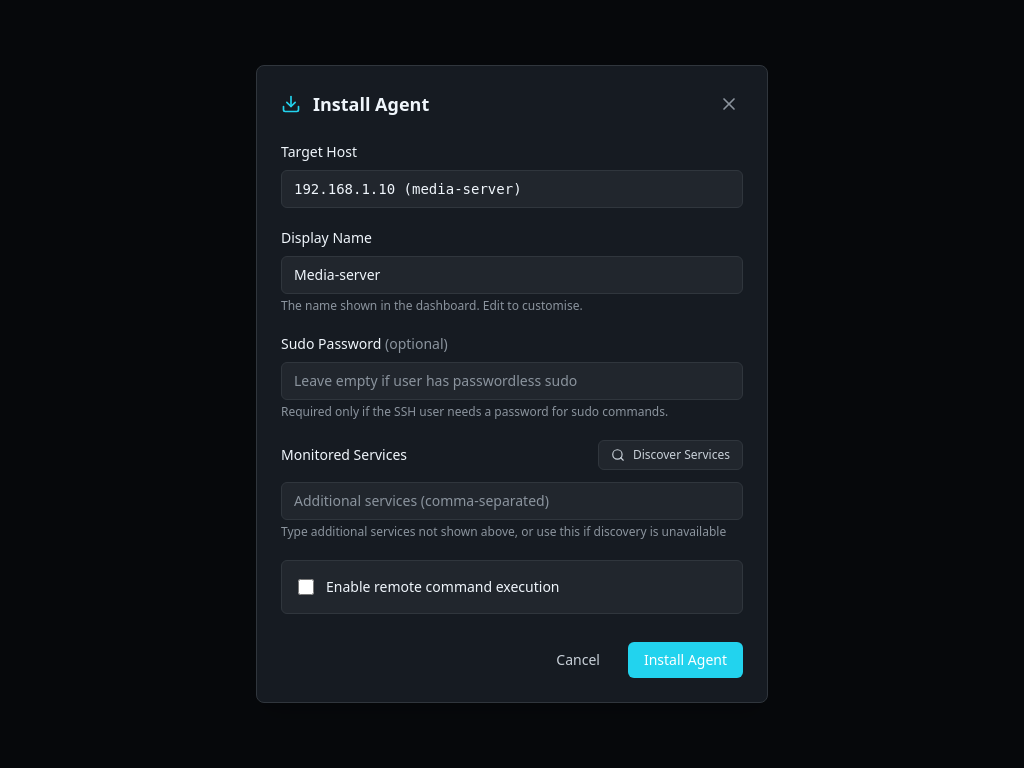
AgentInstallModal › discovers services when button clicked
Click the button with test id "discover-services-button". click: (670, 455)
box: [598,440,743,470]
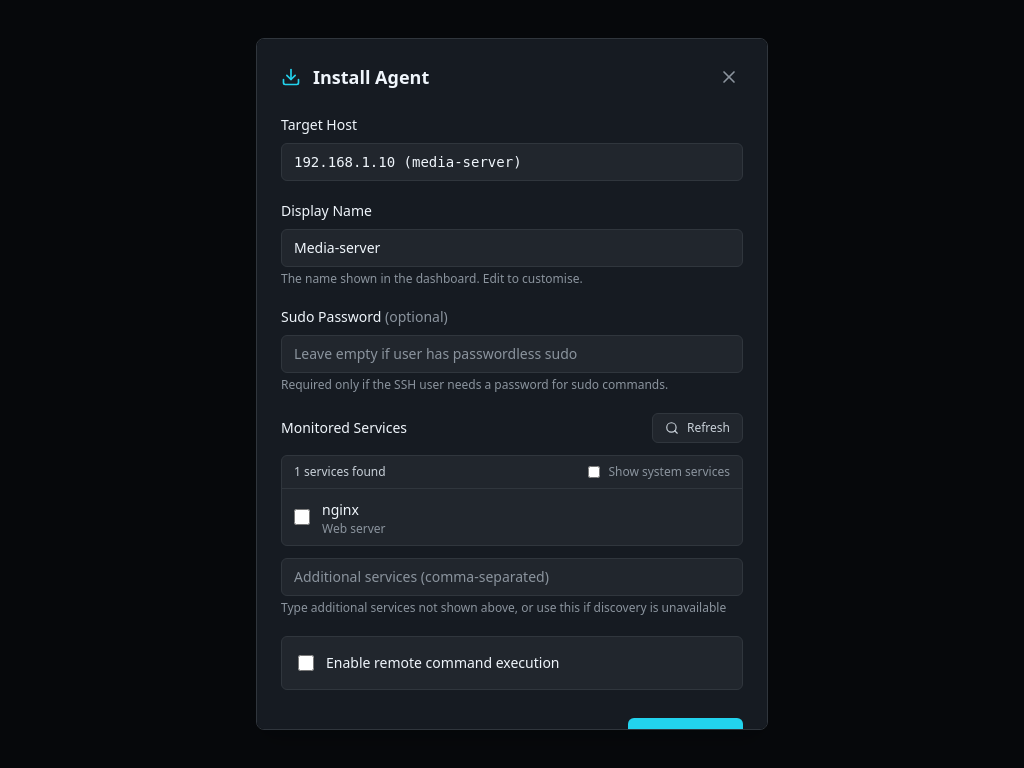
Expected: the text "nginx" is shown, [322,500,359,519]
